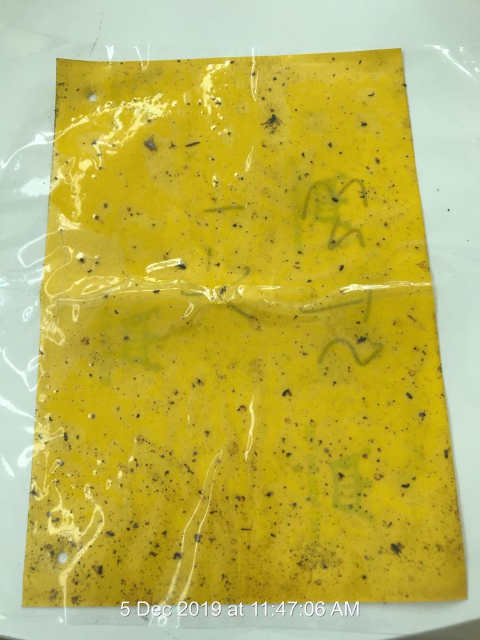DBM: (142, 136, 158, 153)
